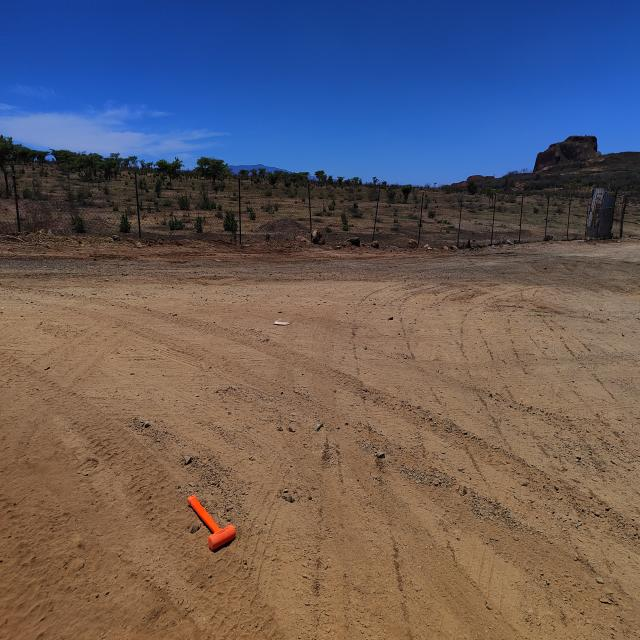Orange_hammer: (187, 492, 236, 552)
